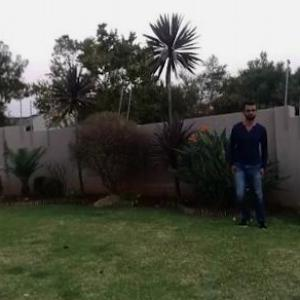follow: (229, 95, 269, 234)
